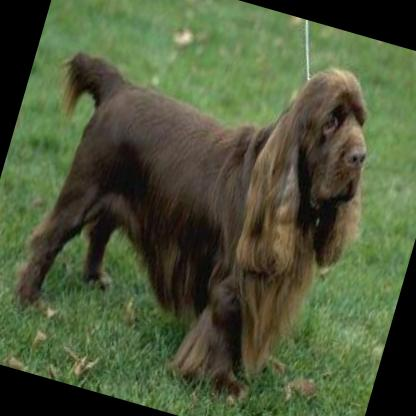Sussex_spaniel: (0, 0, 403, 416)
